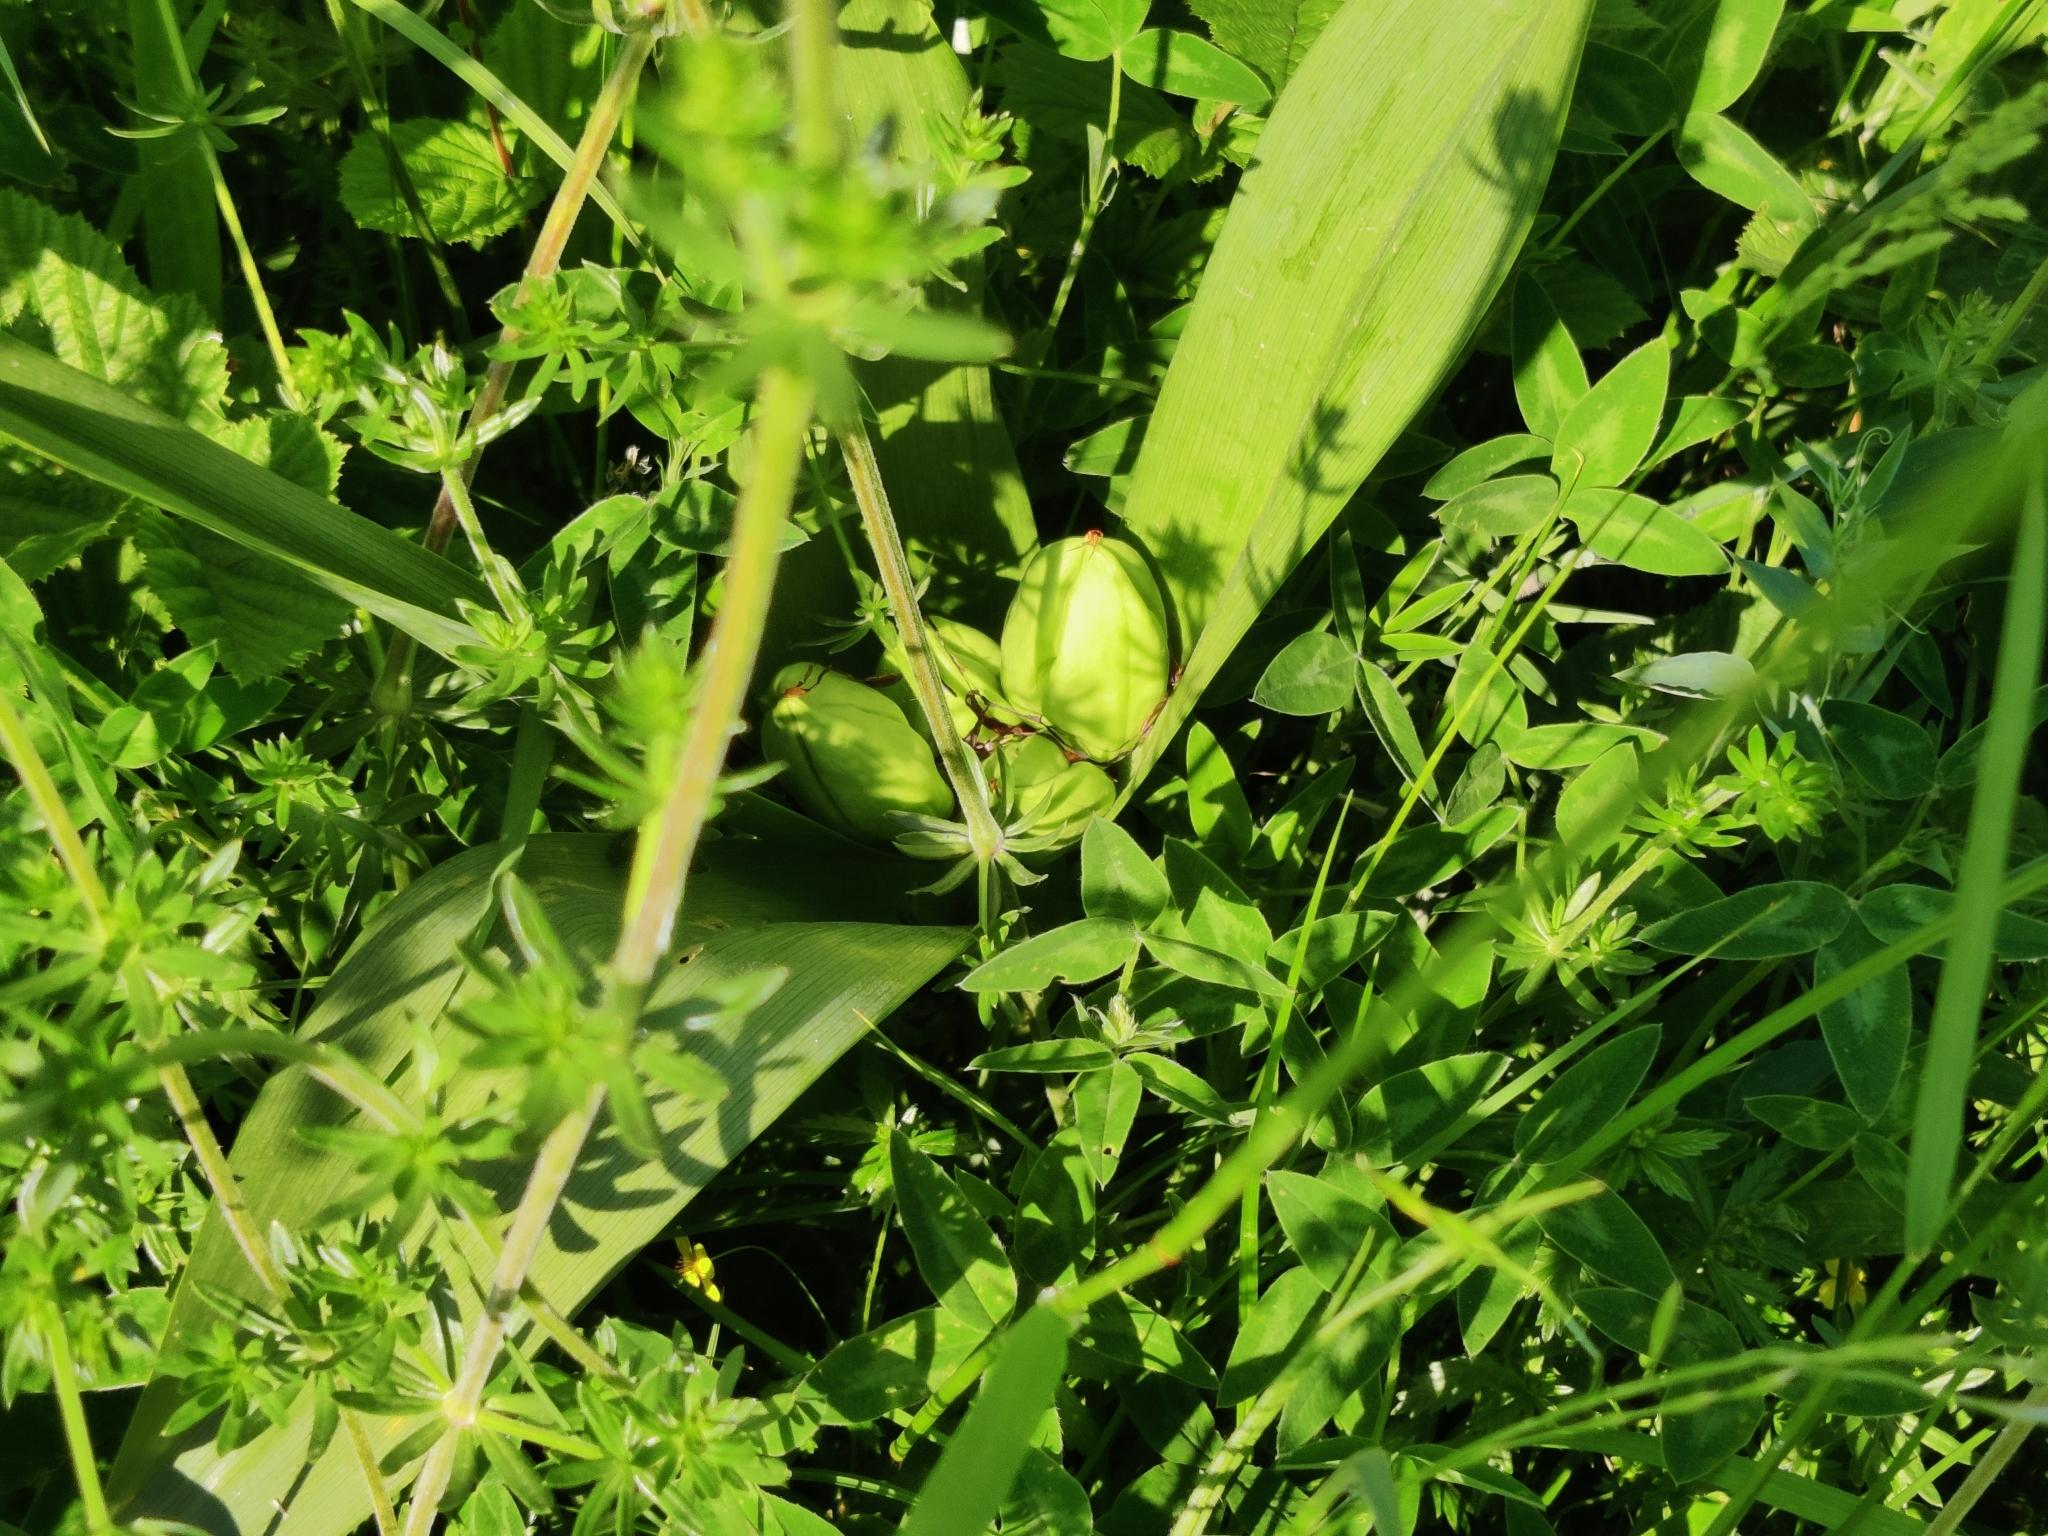Colchicum autumnale L: (105, 0, 1617, 1491)
